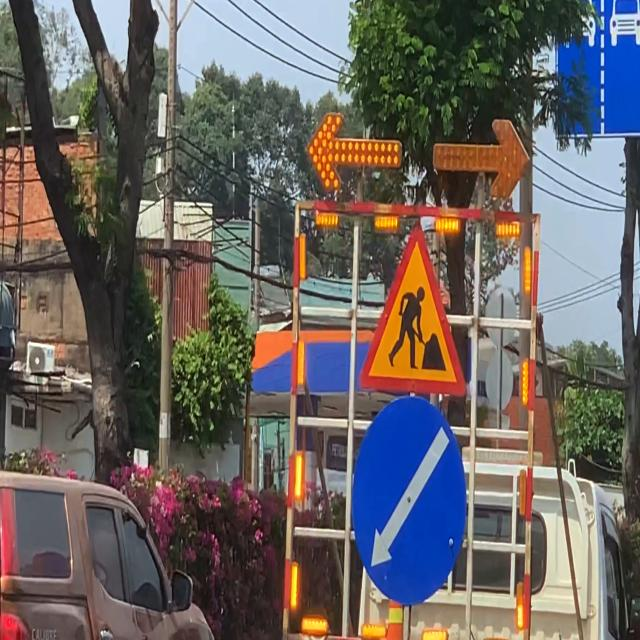Hieu lenh: (345, 403, 470, 599)
Nguy hiem: (359, 228, 467, 396)
